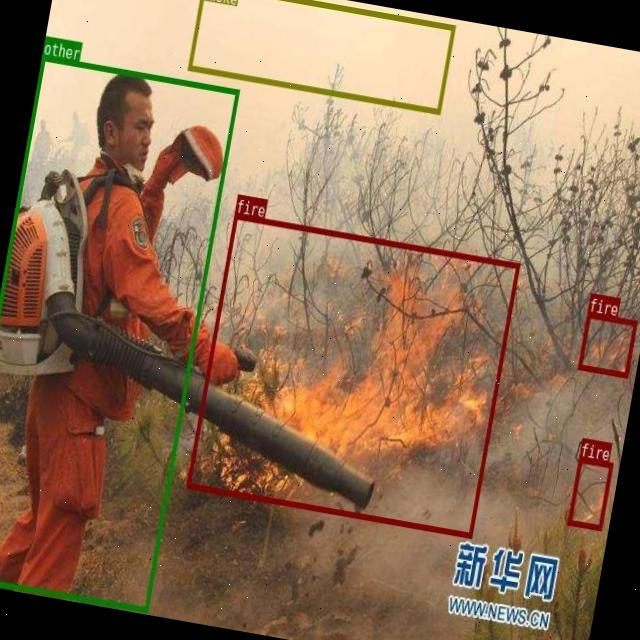fire: (186, 213, 519, 536), (576, 312, 636, 377), (566, 455, 612, 529)
smoke: (187, 0, 454, 113)
